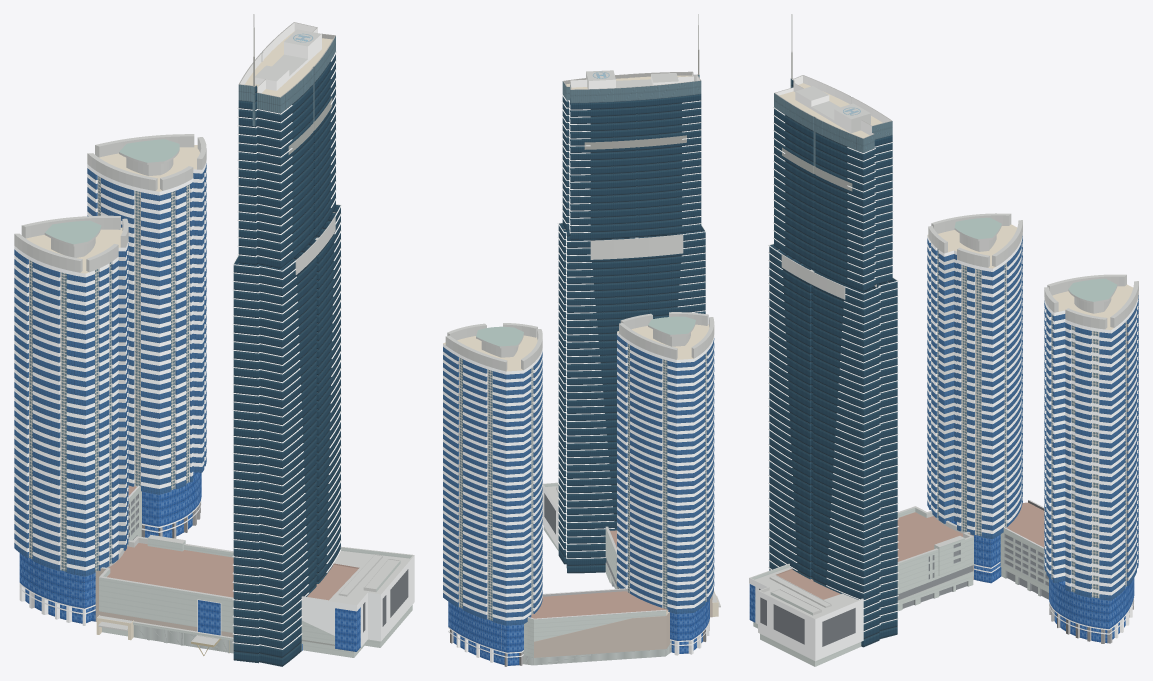
The picture shows the model from 3 angles, left to right: view 1: azimuth 30°, elevation 25°; view 2: azimuth 150°, elevation 25°; view 3: azimuth 270°, elevation 25°; orthographic projection. The views are drawn at different scales.
Visible parts, largest first — view 1: Geom3D.012, Geom3D.025, Geom3D.008, Geom3D.010, Geom3D.026, Geom3D.004, Geom3D.007, Geom3D.009, Geom3D.003, Geom3D.019, Geom3D.027, Geom3D.011 (+6 smaller); view 2: Geom3D.012, Geom3D.025, Geom3D.008, Geom3D.010, Geom3D.026, Geom3D.004, Geom3D, Geom3D.007, Geom3D.009, Geom3D.014, Geom3D.019, Geom3D.011 (+6 smaller); view 3: Geom3D.012, Geom3D.025, Geom3D.008, Geom3D.010, Geom3D.026, Geom3D.007, Geom3D.004, Geom3D.009, Geom3D.003, Geom3D.019, Geom3D.006, Geom3D.014 (+6 smaller).
Boxes of the visible parts, left/top/right/bottom form: Geom3D.012: left=233, top=54, right=340, bottom=666; Geom3D.025: left=14, top=163, right=206, bottom=576; Geom3D.008: left=14, top=51, right=341, bottom=649; Geom3D.010: left=14, top=29, right=414, bottom=645; Geom3D.026: left=29, top=176, right=189, bottom=571; Geom3D.004: left=19, top=472, right=360, bottom=651; Geom3D.007: left=99, top=486, right=412, bottom=657; Geom3D.009: left=107, top=485, right=359, bottom=600; Geom3D.003: left=19, top=555, right=414, bottom=647; Geom3D.019: left=26, top=31, right=332, bottom=640; Geom3D.027: left=29, top=260, right=66, bottom=571; Geom3D.011: left=45, top=139, right=179, bottom=244; Geom3D.012: left=558, top=94, right=705, bottom=573; Geom3D.025: left=443, top=335, right=714, bottom=625; Geom3D.008: left=443, top=94, right=714, bottom=657; Geom3D.010: left=445, top=49, right=720, bottom=607; Geom3D.026: left=459, top=343, right=706, bottom=620; Geom3D.004: left=448, top=599, right=709, bottom=665; Geom3D: left=534, top=595, right=712, bottom=657; Geom3D.007: left=524, top=483, right=666, bottom=657; Geom3D.009: left=531, top=530, right=667, bottom=618; Geom3D.014: left=562, top=75, right=701, bottom=103; Geom3D.019: left=443, top=75, right=718, bottom=616; Geom3D.011: left=476, top=316, right=695, bottom=346; Geom3D.012: left=769, top=80, right=897, bottom=647; Geom3D.025: left=927, top=236, right=1138, bottom=600; Geom3D.008: left=768, top=107, right=1138, bottom=634; Geom3D.010: left=749, top=52, right=1138, bottom=619; Geom3D.026: left=931, top=242, right=1126, bottom=598; Geom3D.007: left=751, top=508, right=1048, bottom=666; Geom3D.004: left=749, top=521, right=1134, bottom=642; Geom3D.009: left=776, top=502, right=1044, bottom=599; Geom3D.003: left=749, top=578, right=863, bottom=661; Geom3D.019: left=779, top=83, right=1132, bottom=329; Geom3D.006: left=897, top=533, right=1048, bottom=608; Geom3D.014: left=774, top=79, right=892, bottom=166.
Size of the model in its own units: 177 by 376 by 230.
Materials: 29 (10 with a texture image).
